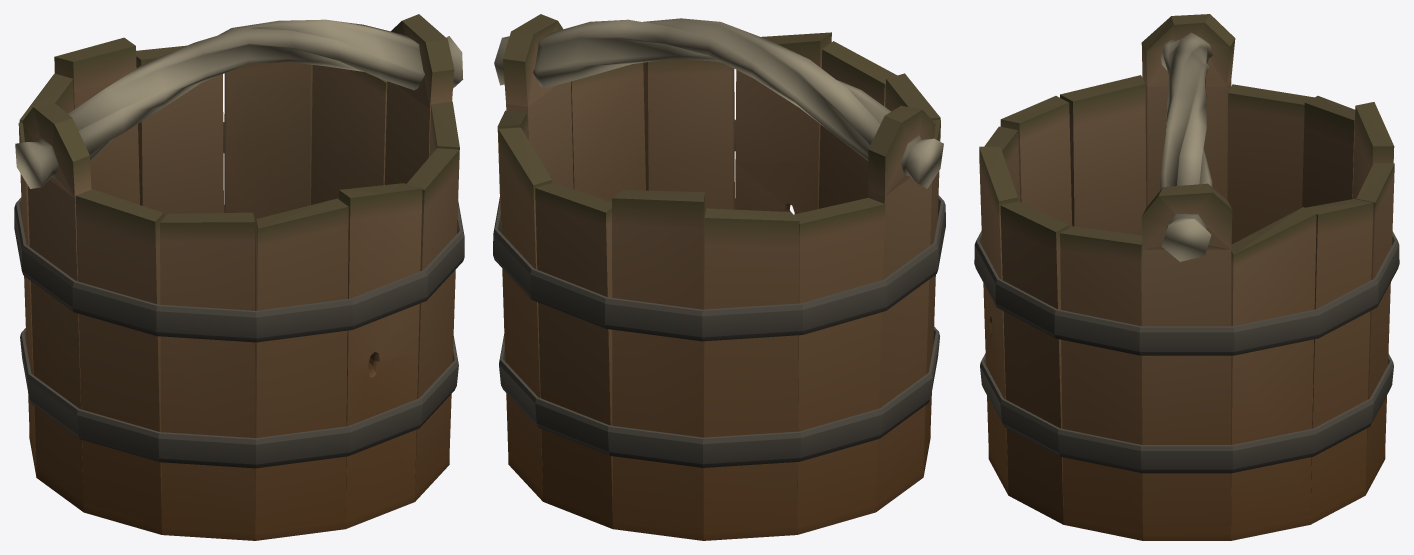
The model's file is bucket.fbx.
The picture shows the model from 3 angles, left to right: view 1: azimuth 30°, elevation 25°; view 2: azimuth 150°, elevation 25°; view 3: azimuth 270°, elevation 25°; orthographic projection. The views are drawn at different scales.
Visible parts, largest first — view 1: Circle; view 2: Circle; view 3: Circle.
Part boxes in pixels (bbox=[...]): Circle: bbox=[14, 14, 464, 540]; Circle: bbox=[493, 14, 945, 540]; Circle: bbox=[974, 14, 1399, 540].
Bounding box in the file's own units: 232 × 221 × 214.
